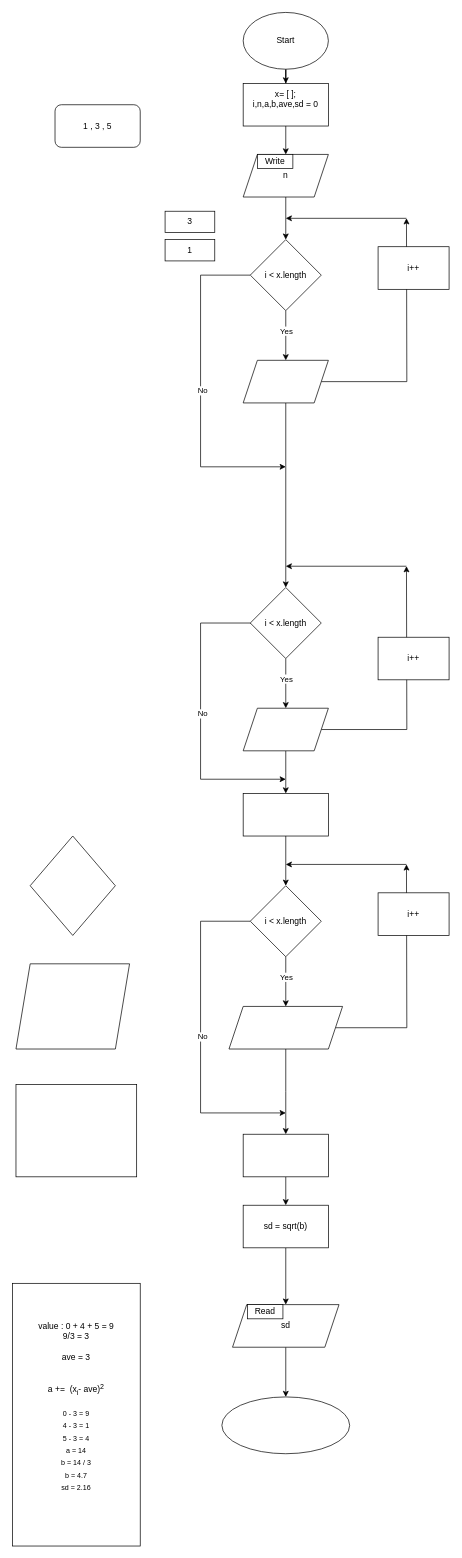
Some shapes in this 462 by 1558 pixel diagram are drawn without their labels. Here are the shapes that lost their labels. From the top down, the centre of each, then its label:
At (285,381): "x i".
At (285,729): "total += x i".
At (285,814): "ave = total / n".
At (72,885): "i < n OR i < x.length".
At (72,1006): "a = a + (x[i]- ave) 2 OR a += (x[i]- ave) 2".
At (285,1027): "a += (x i - ave) 2".
At (76,1130): "sd = sqrt(b) OR sd = pow b OR sd = b 2".
At (285,1155): "b = a / n".
At (285,1425): "End".
